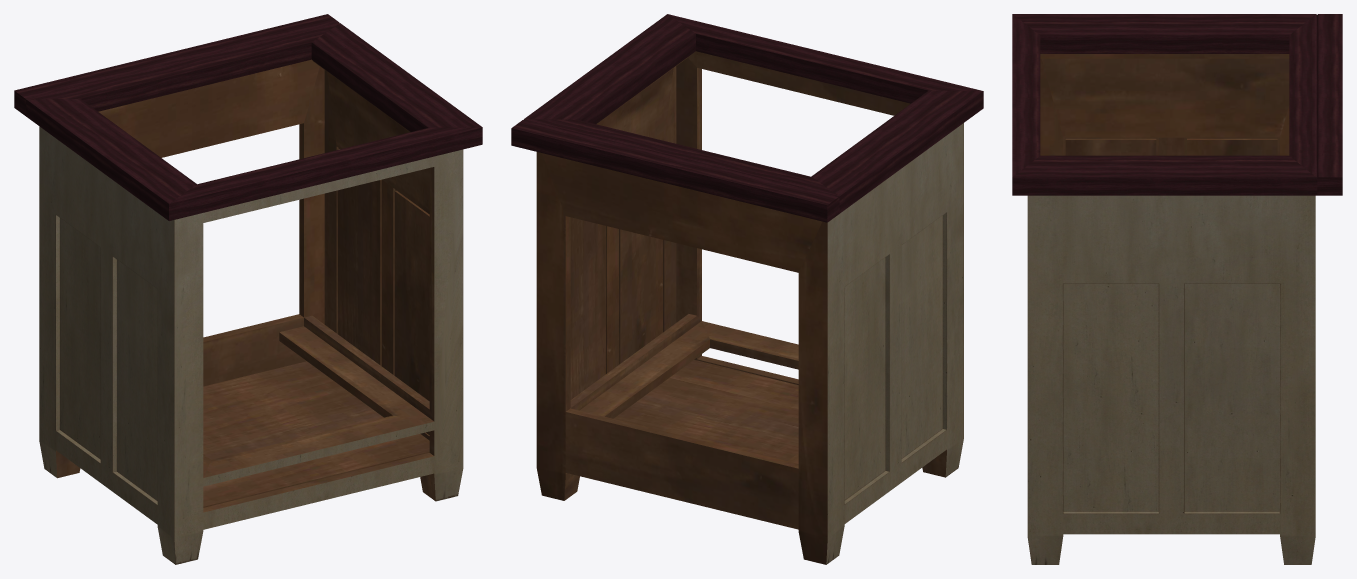
The model's file is example104.gltf.
3 renders of one model, left to right at view 1: azimuth 30°, elevation 25°; view 2: azimuth 150°, elevation 25°; view 3: azimuth 270°, elevation 25°, orthographic. The views are drawn at different scales.
Bounding box in the file's own units: 76 × 86 × 65.
3 materials, 3 textured.
